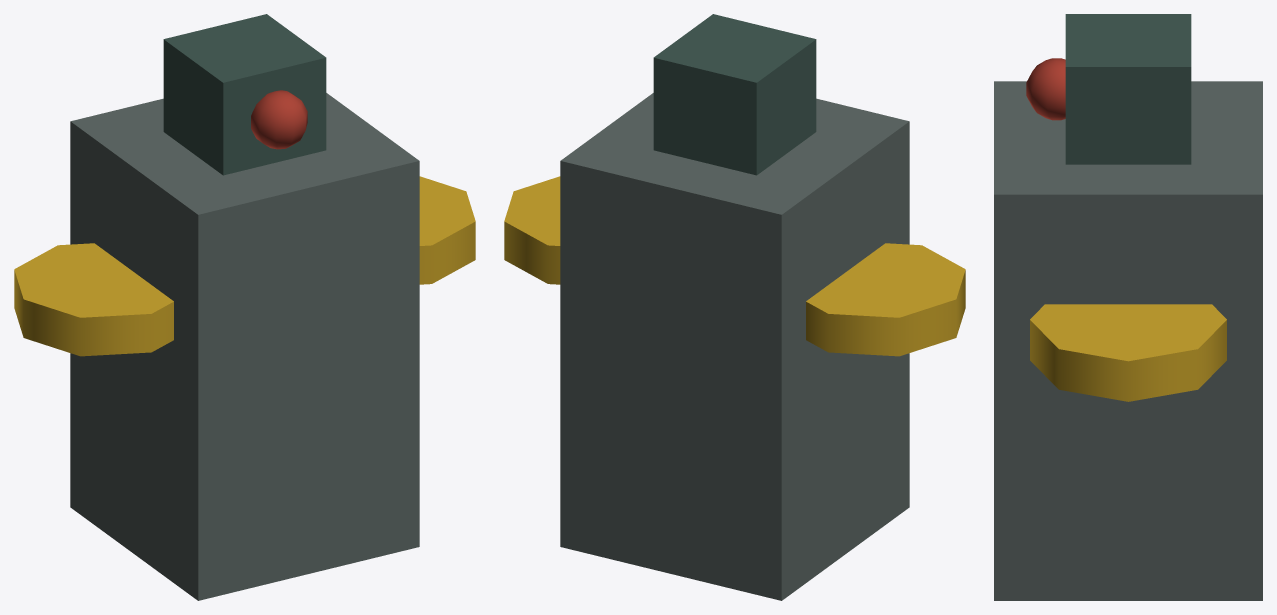
The model's file is ji_guan.glb.
The picture shows the model from 3 angles, left to right: view 1: azimuth 30°, elevation 25°; view 2: azimuth 150°, elevation 25°; view 3: azimuth 270°, elevation 25°; orthographic projection. The views are drawn at different scales.
Parts seen in each view (by area): view 1: _MeshInstance3D_29, _MeshInstance3D_32, _MeshInstance3D_31, _MeshInstance3D_30, _MeshInstance3D_33; view 2: _MeshInstance3D_29, _MeshInstance3D_32, _MeshInstance3D_31, _MeshInstance3D_30; view 3: _MeshInstance3D_29, _MeshInstance3D_32, _MeshInstance3D_30, _MeshInstance3D_33.
Part boxes in pixels (box(x1,y1,x2,y2)): _MeshInstance3D_29: box(70, 93, 419, 600); _MeshInstance3D_32: box(163, 14, 326, 175); _MeshInstance3D_31: box(14, 243, 173, 356); _MeshInstance3D_30: box(419, 176, 475, 284); _MeshInstance3D_33: box(251, 90, 307, 149); _MeshInstance3D_29: box(560, 93, 909, 600); _MeshInstance3D_32: box(653, 14, 816, 175); _MeshInstance3D_31: box(806, 243, 965, 356); _MeshInstance3D_30: box(504, 176, 560, 284); _MeshInstance3D_29: box(994, 81, 1262, 600); _MeshInstance3D_32: box(1065, 14, 1191, 164); _MeshInstance3D_30: box(1030, 304, 1226, 401); _MeshInstance3D_33: box(1026, 58, 1065, 120).
Bounding box in the file's own units: 0.6 × 0.62 × 0.3.
